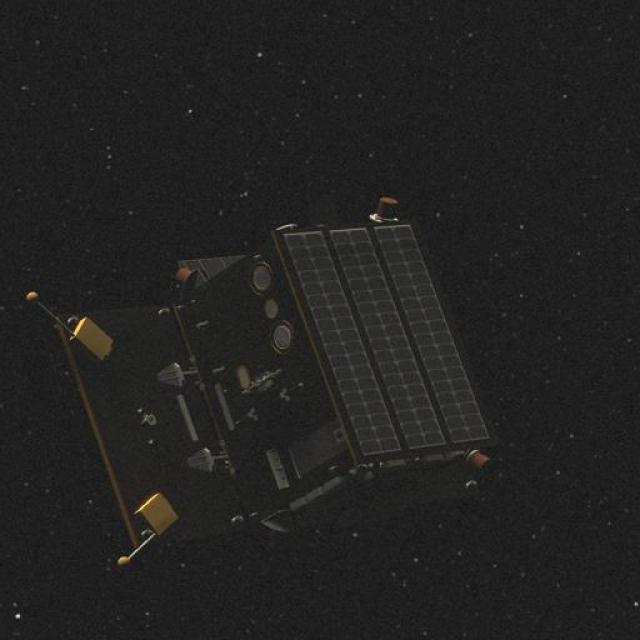proba_2: (40, 252, 495, 538)
